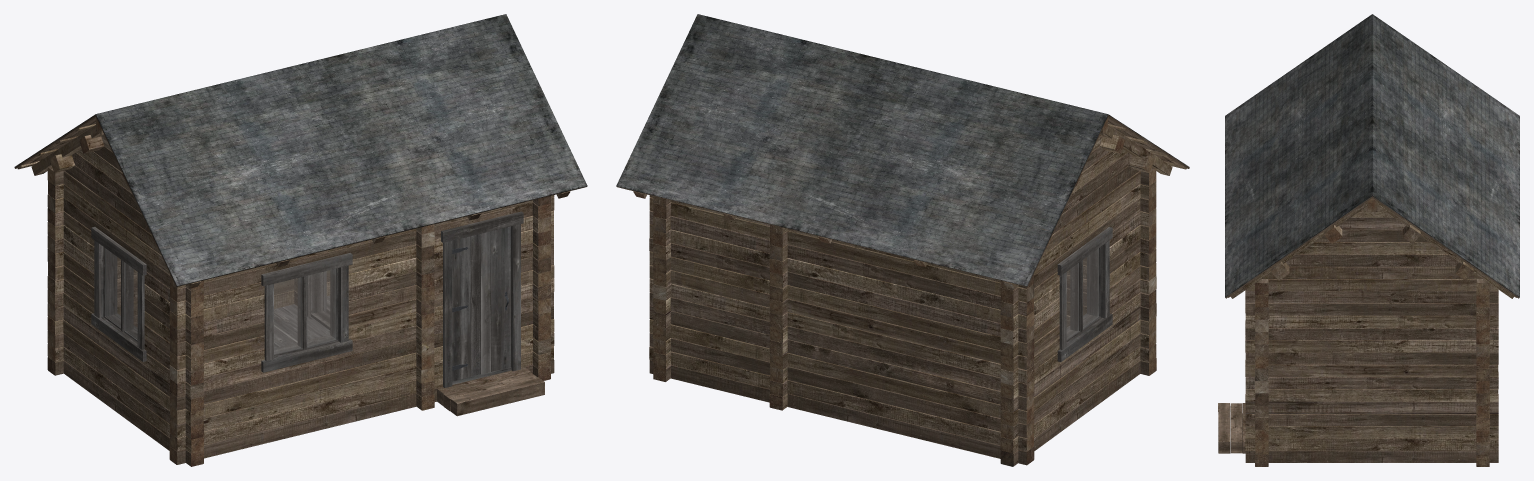
File: sf-cabin3.glb
3 views of the same model, side by side, from view 1: azimuth 30°, elevation 25°; view 2: azimuth 150°, elevation 25°; view 3: azimuth 270°, elevation 25° (orthographic). The views are drawn at different scales.
Visible parts, largest first — view 1: Base, Door; view 2: Base; view 3: Base.
Part boxes in pixels (box(x1,y1,x2,y2)): Base: box(14, 14, 587, 466); Door: box(452, 226, 510, 381); Base: box(616, 14, 1189, 466); Base: box(1218, 14, 1519, 466).
Size of the model in its own units: 514 by 368 by 361.
7 materials, 7 textured.
